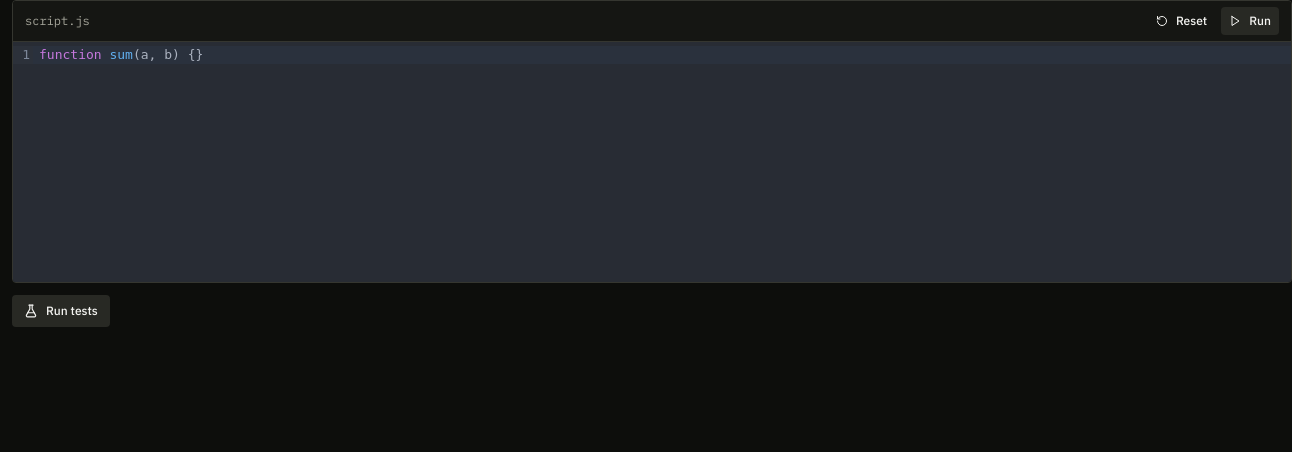
Scenario: ExerciseEditor: running the exercise's tests › runs the learner's current code against the tests and reports each case
What coordinates should you click on to do the following:
click the button "Run tests"
I would click on:
 (61, 311)
Its box is left=12, top=295, right=110, bottom=327.
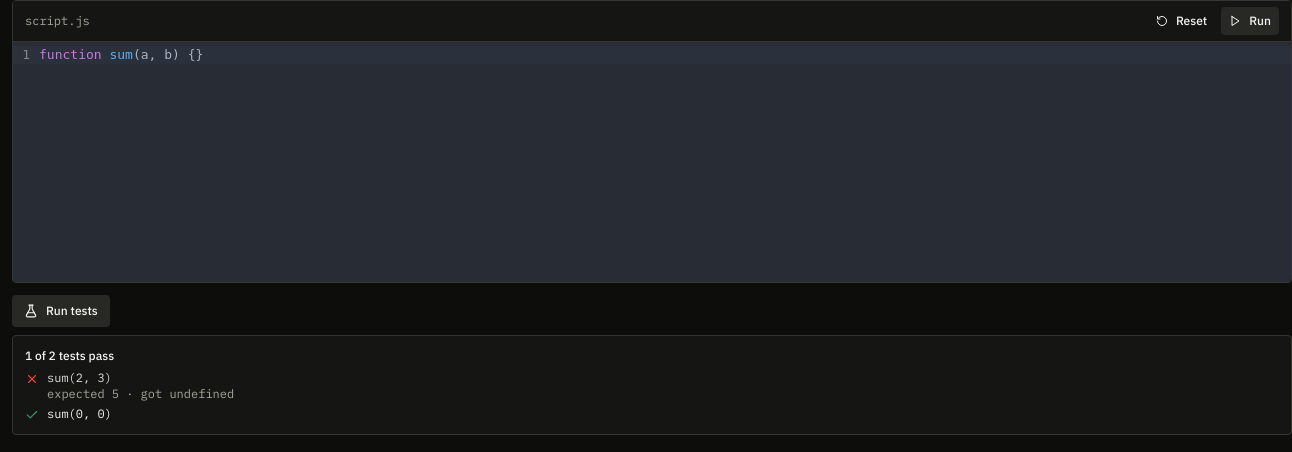
Expected: the message reads "1 of 2 tests pass", left=25, top=348, right=114, bottom=363
Expected: the text "sum(2, 3)" is shown, left=47, top=370, right=112, bottom=385
Expected: the text "expected 5 · got undefined" is shown, left=47, top=386, right=234, bottom=402
